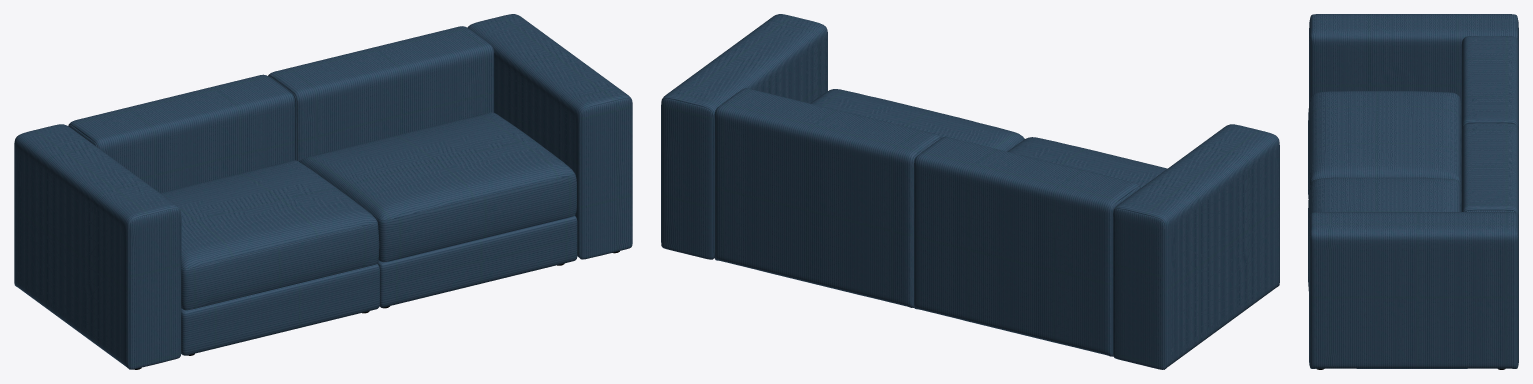
The model's file is 40 - JÄTTEBO - 三人座沙發，Samsala 深藍色 IKEA 線上購物.glb.
3 views of the same model, side by side, from view 1: azimuth 30°, elevation 25°; view 2: azimuth 150°, elevation 25°; view 3: azimuth 270°, elevation 25° (orthographic). The views are drawn at different scales.
Visible parts, largest first — view 1: Box204; view 2: Box204; view 3: Box204.
Boxes of the visible parts, x1,y1,x2,y2 form: Box204: (14,14,632,369); Box204: (661,14,1279,369); Box204: (1308,14,1518,368).
Bounding box in the file's own units: 2.4 × 0.7153 × 0.9611.
Materials: 2 (1 with a texture image).
